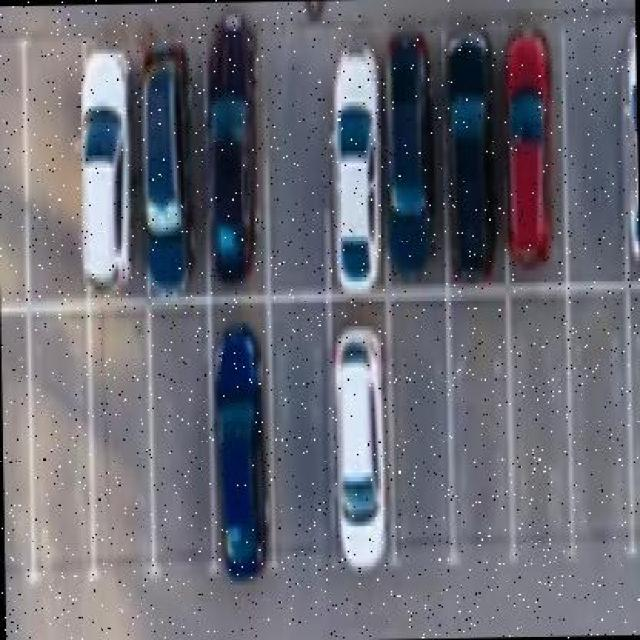Car: (87, 86, 144, 267), (146, 72, 198, 269), (212, 59, 253, 272), (337, 61, 377, 272), (389, 61, 433, 246), (221, 350, 263, 535), (343, 343, 381, 546), (515, 72, 550, 256), (457, 67, 494, 241)
Empty: (30, 327, 89, 533), (275, 338, 330, 539), (515, 330, 567, 510), (157, 333, 206, 521), (395, 347, 444, 532), (97, 351, 146, 534), (458, 330, 506, 515), (35, 87, 81, 280), (275, 104, 319, 272), (576, 347, 621, 509), (572, 80, 615, 246)
